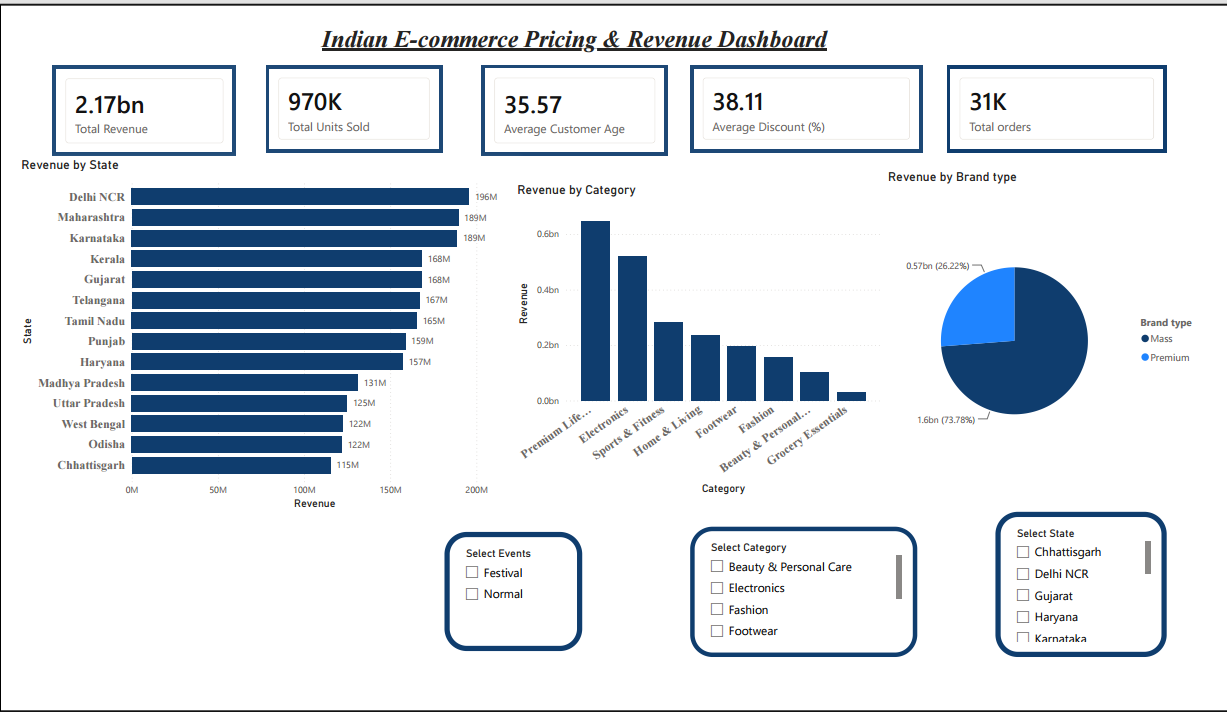

This screenshot's page, from the dashboard's own definition file:
{"tool":"powerbi","page":{"name":"Page 1","canvas":[1600,900],"ordinal":0},"visuals":[{"type":"textbox","box":[274,0,946.8,64.3],"z":0},{"type":"cardVisual","fields":{"Data":["indian_ecommerce_pricing_revenue_growth_36_months csv.Total Revenue"]},"box":[46.6,58.7,246.9,121.4],"z":1000},{"type":"cardVisual","fields":{"Data":["indian_ecommerce_pricing_revenue_growth_36_months csv.Tot units sold"]},"box":[332.5,57.5,237.5,117.5],"z":2000},{"type":"cardVisual","fields":{"Data":["indian_ecommerce_pricing_revenue_growth_36_months csv.avg customer age"]},"box":[622.5,57.5,250,122.5],"z":3000},{"type":"cardVisual","fields":{"Data":["indian_ecommerce_pricing_revenue_growth_36_months csv.Avg discount %"]},"box":[902.5,57.5,312.5,117.5],"z":4000},{"type":"clusteredBarChart","fields":{"Category":["indian_ecommerce_pricing_revenue_growth_36_months csv.state"],"Y":["Sum(indian_ecommerce_pricing_revenue_growth_36_months csv.revenue)"]},"box":[0,180.9,666,478.7],"z":5000},{"type":"columnChart","fields":{"Category":["indian_ecommerce_pricing_revenue_growth_36_months csv.category"],"Y":["Sum(indian_ecommerce_pricing_revenue_growth_36_months csv.revenue)"]},"box":[666,214.9,497.9,425.5],"z":6000},{"type":"slicer","fields":{"Values":["indian_ecommerce_pricing_revenue_growth_36_months csv.state"]},"box":[1312.5,657.5,230,195],"z":7000},{"type":"slicer","fields":{"Values":["indian_ecommerce_pricing_revenue_growth_36_months csv.category"]},"box":[902.5,677.5,305,175],"z":8000},{"type":"slicer","fields":{"Values":["indian_ecommerce_pricing_revenue_growth_36_months csv.sales_event"]},"box":[572.5,685,185,160],"z":9000},{"type":"pieChart","fields":{"Category":["indian_ecommerce_pricing_revenue_growth_36_months csv.brand_type"],"Y":["Sum(indian_ecommerce_pricing_revenue_growth_36_months csv.revenue)"]},"box":[1163.8,197.9,436.2,442.6],"z":10000},{"type":"cardVisual","fields":{"Data":["indian_ecommerce_pricing_revenue_growth_36_months csv.tot count order id"]},"box":[1247.5,57.5,295,117.5],"z":11001}]}

Visuals, with their boxes on the page's 1600x900 design canvas (x1, y1, x2, y2). These are canvas units, not pixel positions in the 1227x712 screenshot, which may show the page scaled, cropped or inside an application window:
textbox: bbox=[274, 0, 1221, 64]
cardVisual - indian_ecommerce_pricing_revenue_growth_36_months csv.Total Revenue: bbox=[47, 59, 294, 180]
cardVisual - indian_ecommerce_pricing_revenue_growth_36_months csv.Tot units sold: bbox=[332, 58, 570, 175]
cardVisual - indian_ecommerce_pricing_revenue_growth_36_months csv.avg customer age: bbox=[622, 58, 872, 180]
cardVisual - indian_ecommerce_pricing_revenue_growth_36_months csv.Avg discount %: bbox=[902, 58, 1215, 175]
clusteredBarChart - indian_ecommerce_pricing_revenue_growth_36_months csv.state x Sum(indian_ecommerce_pricing_revenue_growth_36_months csv.revenue): bbox=[0, 181, 666, 660]
columnChart - indian_ecommerce_pricing_revenue_growth_36_months csv.category x Sum(indian_ecommerce_pricing_revenue_growth_36_months csv.revenue): bbox=[666, 215, 1164, 640]
slicer - indian_ecommerce_pricing_revenue_growth_36_months csv.state: bbox=[1312, 658, 1542, 852]
slicer - indian_ecommerce_pricing_revenue_growth_36_months csv.category: bbox=[902, 678, 1208, 852]
slicer - indian_ecommerce_pricing_revenue_growth_36_months csv.sales_event: bbox=[572, 685, 758, 845]
pieChart - indian_ecommerce_pricing_revenue_growth_36_months csv.brand_type x Sum(indian_ecommerce_pricing_revenue_growth_36_months csv.revenue): bbox=[1164, 198, 1600, 640]
cardVisual - indian_ecommerce_pricing_revenue_growth_36_months csv.tot count order id: bbox=[1248, 58, 1542, 175]
